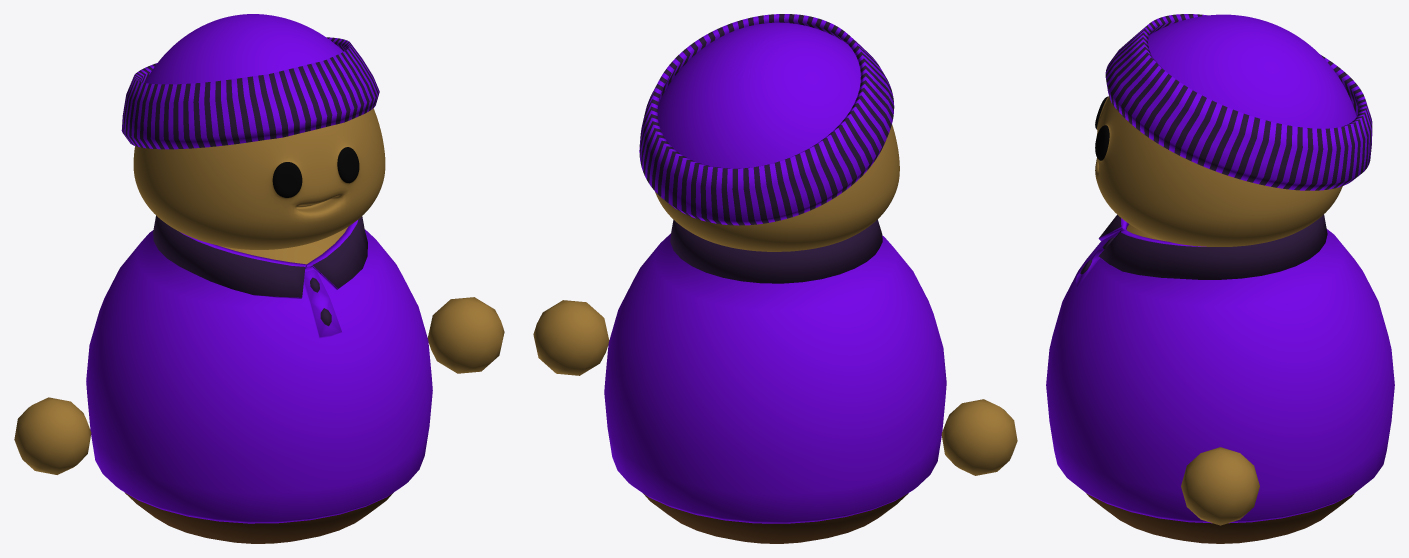
3 views of the same model, side by side, from view 1: azimuth 30°, elevation 25°; view 2: azimuth 150°, elevation 25°; view 3: azimuth 270°, elevation 25° (orthographic).
Parts seen in each view (by area): view 1: Shirt, Head.001, Head, Torso, Hand Right, Hand Left; view 2: Shirt, Head.001, Head, Hand Right, Hand Left, Torso; view 3: Shirt, Head.001, Head, Hand Left, Torso.
Part boxes in pixels (left/top/right/bottom): Shirt: left=86, top=215, right=432, bottom=523; Head.001: left=121, top=14, right=379, bottom=149; Head: left=133, top=108, right=385, bottom=249; Torso: left=124, top=227, right=393, bottom=543; Hand Right: left=14, top=397, right=91, bottom=474; Hand Left: left=427, top=297, right=504, bottom=373; Shirt: left=604, top=219, right=946, bottom=523; Head.001: left=639, top=14, right=894, bottom=225; Head: left=655, top=124, right=899, bottom=251; Hand Right: left=941, top=399, right=1017, bottom=475; Hand Left: left=533, top=300, right=609, bottom=375; Torso: left=643, top=493, right=908, bottom=543; Shirt: left=1046, top=214, right=1394, bottom=523; Head.001: left=1105, top=14, right=1372, bottom=190; Head: left=1095, top=96, right=1342, bottom=246; Hand Left: left=1181, top=447, right=1259, bottom=525; Torso: left=1086, top=224, right=1354, bottom=543.
Size of the model in its own units: 278 by 273 by 175.
